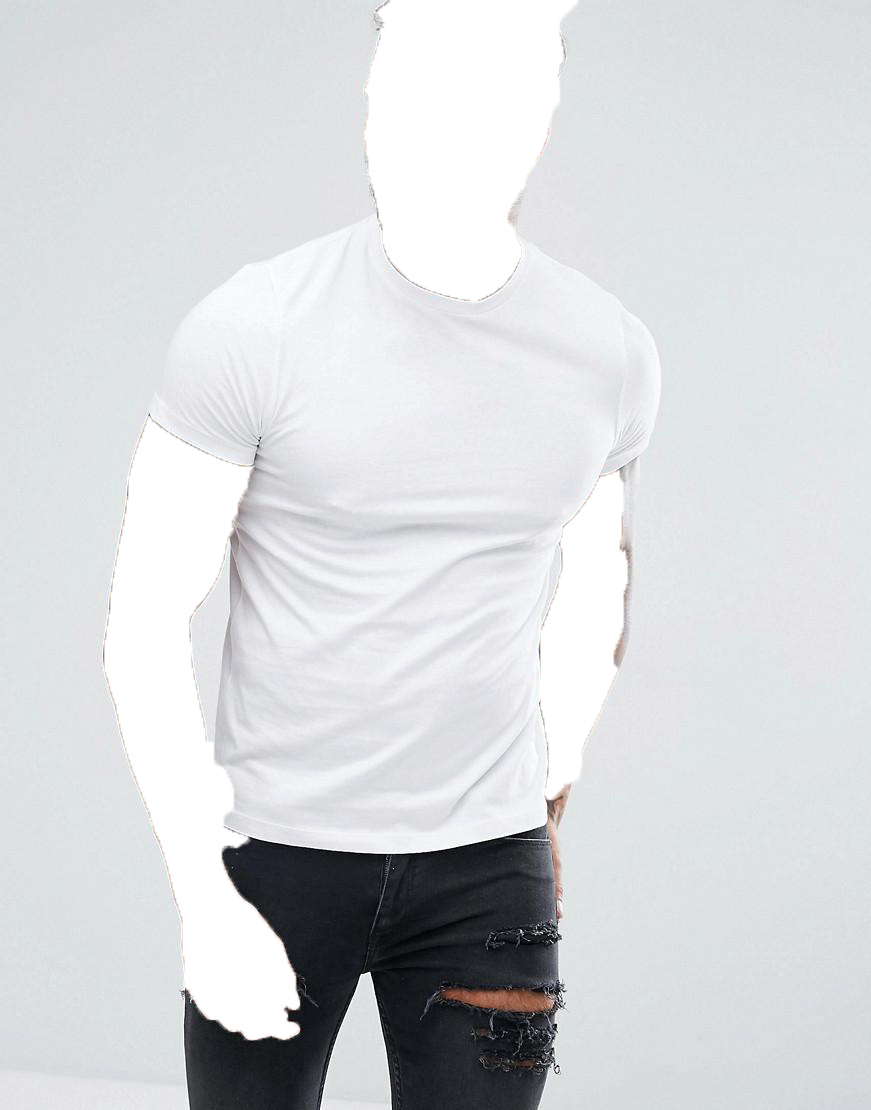teeshirt: (134, 213, 664, 849)
